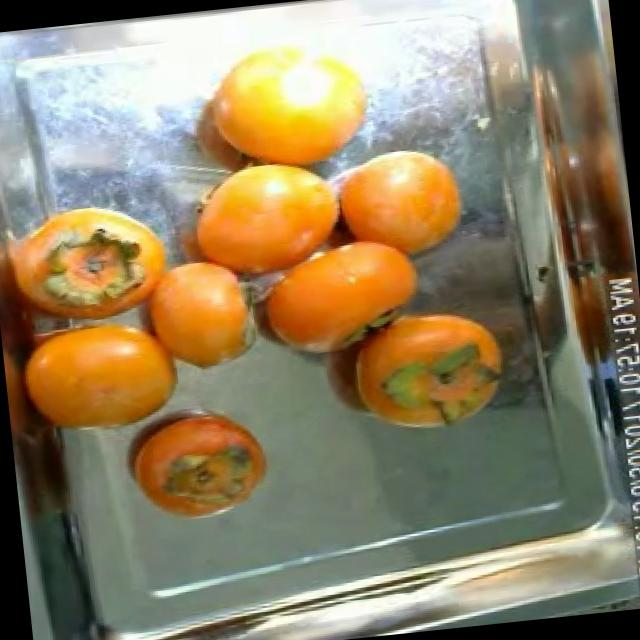Fruit: (170, 8, 393, 190), (322, 292, 522, 451), (2, 312, 202, 458), (0, 180, 189, 329), (110, 396, 284, 538), (312, 130, 480, 276), (126, 246, 271, 389), (400, 204, 550, 334)
